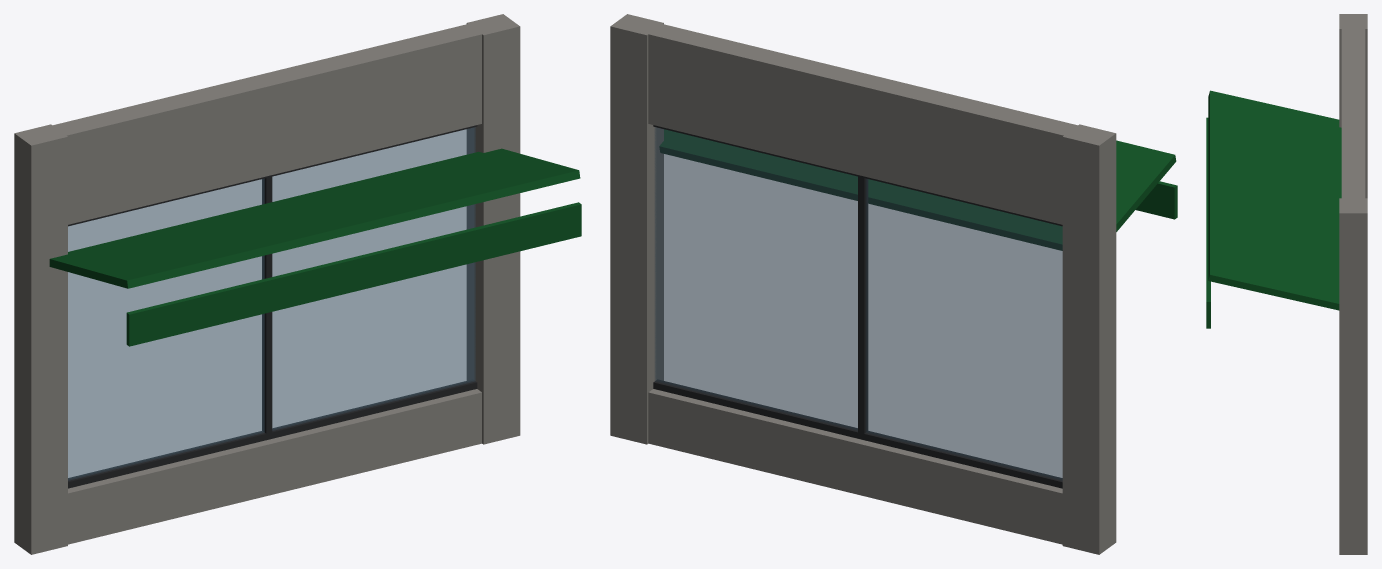
Rendered from KIT_Storefront_4m_Concrete_FreshMartGreen.glb.
3 renders of one model, left to right at view 1: azimuth 30°, elevation 25°; view 2: azimuth 150°, elevation 25°; view 3: azimuth 270°, elevation 25°, orthographic. The views are drawn at different scales.
Visible parts, largest first — view 1: KIT_Storefront_4m_Concrete_FreshMartGreen; view 2: KIT_Storefront_4m_Concrete_FreshMartGreen; view 3: KIT_Storefront_4m_Concrete_FreshMartGreen.
Boxes of the visible parts, bbox=[...] form: KIT_Storefront_4m_Concrete_FreshMartGreen: bbox=[14, 14, 581, 554]; KIT_Storefront_4m_Concrete_FreshMartGreen: bbox=[610, 14, 1177, 554]; KIT_Storefront_4m_Concrete_FreshMartGreen: bbox=[1206, 14, 1367, 554].
Bounding box in the file's own units: 4 × 3.2 × 1.37.
